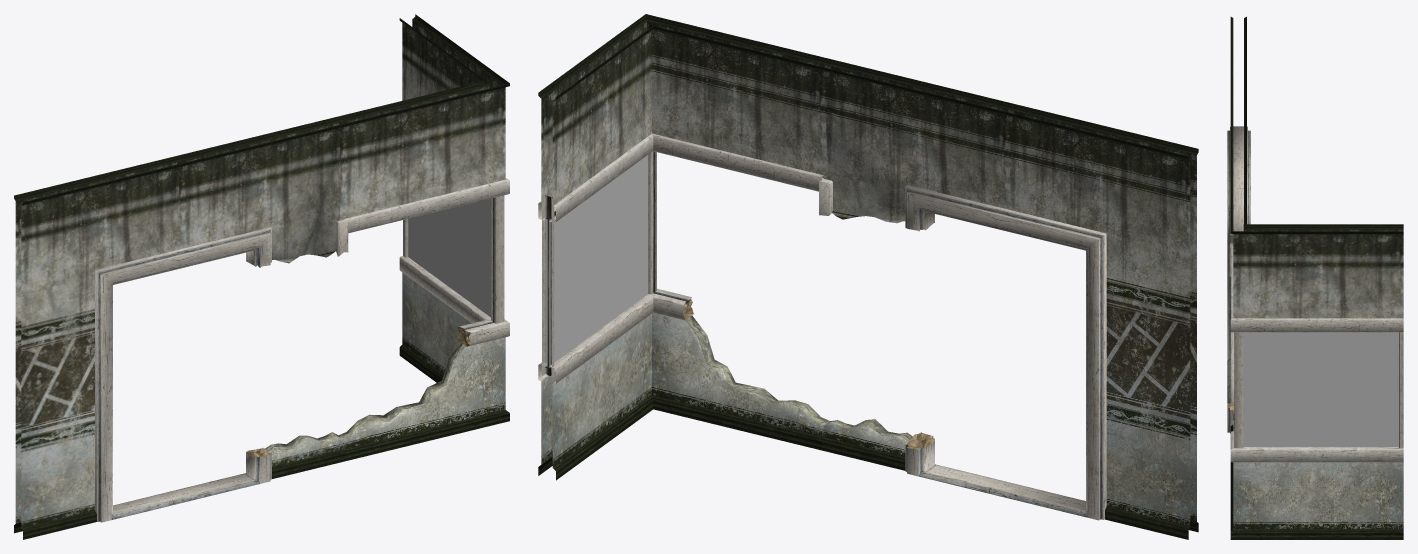
File: waitingroom_receptiondesk_broken_wall.dae
3 renders of one model, left to right at view 1: azimuth 30°, elevation 25°; view 2: azimuth 150°, elevation 25°; view 3: azimuth 270°, elevation 25°, orthographic. The views are drawn at different scales.
Visible parts, largest first — view 1: polySurface170, polySurface500, polySurface505; view 2: polySurface170, polySurface500, polySurface505; view 3: polySurface500, polySurface505, polySurface170.
Part boxes in pixels (bbox=[...]): polySurface170: bbox=[14, 117, 345, 539]; polySurface500: bbox=[336, 14, 509, 460]; polySurface505: bbox=[408, 198, 490, 317]; polySurface170: bbox=[822, 59, 1198, 539]; polySurface500: bbox=[538, 14, 832, 480]; polySurface505: bbox=[546, 155, 648, 366]; polySurface500: bbox=[1230, 160, 1403, 539]; polySurface505: bbox=[1243, 332, 1398, 446]; polySurface170: bbox=[1227, 16, 1250, 433].
Bounding box in the file's own units: 6.03 × 4 × 2.07.
